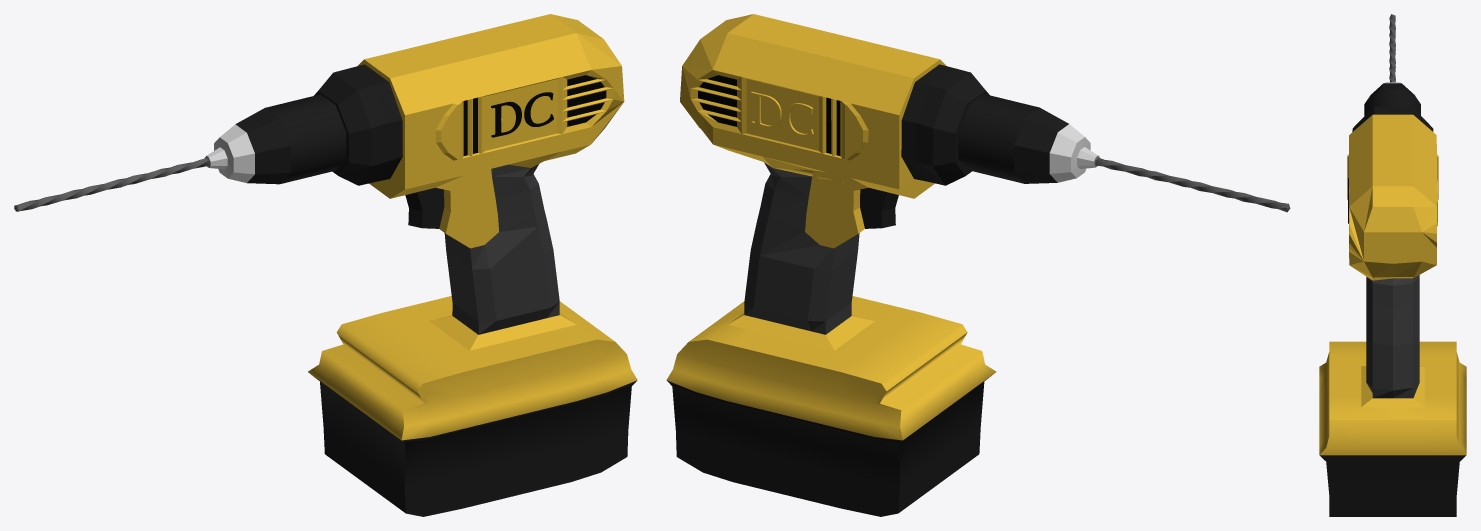
File: 3DSDrill.fbx
The picture shows the model from 3 angles, left to right: view 1: azimuth 30°, elevation 25°; view 2: azimuth 150°, elevation 25°; view 3: azimuth 270°, elevation 25°; orthographic projection. The views are drawn at different scales.
Visible parts, largest first — view 1: Bottom, top, middle; view 2: Bottom, top, middle; view 3: Bottom, top, middle.
Part boxes in pixels (x1,y1,x2,y2): Bottom: [308, 296, 637, 516]; top: [14, 14, 624, 211]; middle: [405, 166, 559, 334]; Bottom: [666, 296, 996, 516]; top: [680, 14, 1290, 212]; middle: [744, 162, 898, 334]; Bottom: [1319, 341, 1466, 516]; top: [1347, 14, 1438, 280]; middle: [1366, 275, 1419, 398].
Size of the model in its own units: 542 by 369 by 149.
